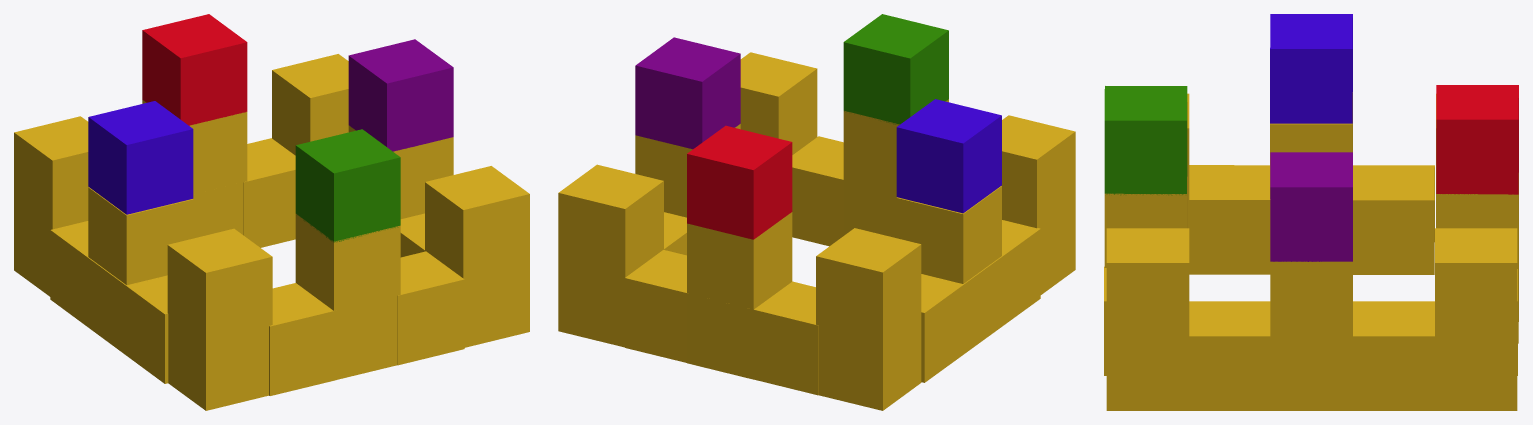
File: crown.fbx
The picture shows the model from 3 angles, left to right: view 1: azimuth 30°, elevation 25°; view 2: azimuth 150°, elevation 25°; view 3: azimuth 270°, elevation 25°; orthographic projection. The views are drawn at different scales.
Visible parts, largest first — view 1: Cube.024, Cube.021, Cube.025, Cube.016, Cube.026, Cube.027, Cube.014, Cube.023, Cube.019, Cube.020, Cube.003, Cube.009 (+12 smaller); view 2: Cube.024, Cube.027, Cube.018, Cube.023, Cube.026, Cube.025, Cube.012, Cube.022, Cube.021, Cube.020, Cube.008, Cube.016 (+12 smaller); view 3: Cube.016, Cube.024, Cube.026, Cube.018, Cube.027, Cube.002, Cube.025, Cube.001, Cube.007, Cube.006, Cube.013, Cube (+5 smaller).
Boxes of the visible parts, box(x1,y1,x2,y2) form: Cube.024: box(88, 101, 193, 214); Cube.021: box(167, 228, 272, 341); Cube.025: box(295, 129, 400, 242); Cube.016: box(425, 166, 529, 279); Cube.026: box(348, 39, 453, 151); Cube.027: box(142, 14, 247, 125); Cube.014: box(295, 214, 400, 310); Cube.023: box(14, 116, 88, 229); Cube.019: box(168, 314, 268, 410); Cube.020: box(88, 187, 193, 284); Cube.003: box(397, 251, 464, 365); Cube.009: box(269, 283, 336, 395); Cube.024: box(896, 99, 1001, 213); Cube.027: box(687, 125, 792, 239); Cube.018: box(558, 164, 663, 278); Cube.023: box(816, 228, 921, 342); Cube.026: box(635, 37, 740, 149); Cube.025: box(843, 14, 948, 125); Cube.012: box(687, 212, 792, 309); Cube.022: box(818, 314, 921, 410); Cube.021: box(1001, 115, 1075, 228); Cube.020: box(896, 186, 1001, 283); Cube.008: box(753, 281, 818, 395); Cube.016: box(740, 52, 817, 154); Cube.016: box(1106, 228, 1189, 337); Cube.024: box(1270, 14, 1352, 123); Cube.026: box(1270, 152, 1352, 261); Cube.018: box(1435, 228, 1517, 337); Cube.027: box(1436, 85, 1518, 194); Cube.002: box(1188, 301, 1270, 410); Cube.025: box(1104, 86, 1187, 195); Cube.001: box(1353, 301, 1435, 410); Cube.007: box(1353, 165, 1434, 274); Cube.006: box(1189, 165, 1269, 274); Cube.013: box(1270, 261, 1352, 336); Cube: box(1270, 336, 1352, 410).
Size of the model in its own units: 211 by 216 by 130.
